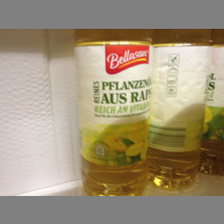oil: (72, 30, 148, 195), (149, 29, 213, 191)
